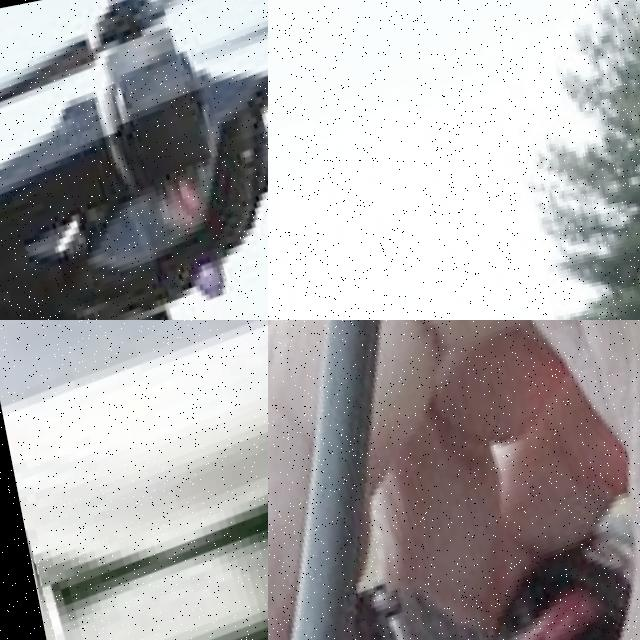drone: (268, 320, 640, 640), (0, 0, 268, 320), (0, 320, 268, 640)
